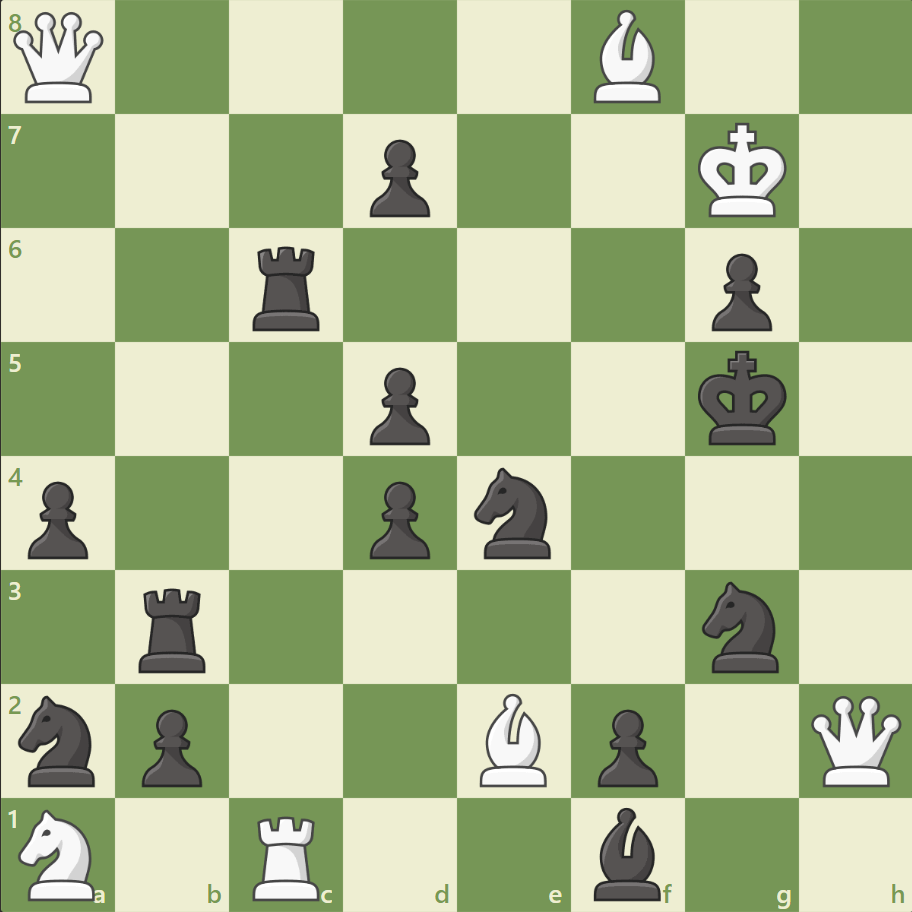B: (585, 6, 669, 109), (471, 687, 555, 790)
K: (692, 117, 792, 225)
N: (11, 802, 108, 904)
Q: (10, 9, 109, 108), (805, 690, 904, 789)
R: (246, 806, 329, 904)
b: (585, 801, 669, 904)
k: (692, 344, 792, 452)
n: (465, 461, 562, 564), (11, 688, 108, 791), (692, 575, 789, 677)
p: (701, 246, 776, 337), (20, 473, 95, 564), (133, 700, 208, 791), (361, 132, 435, 223), (361, 359, 435, 450), (361, 473, 435, 564), (588, 700, 662, 791)
r: (246, 239, 329, 336), (133, 579, 215, 676)
